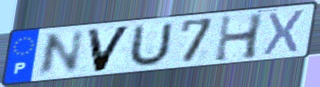7: (179, 17, 216, 66)
H: (212, 12, 266, 64)
N: (34, 28, 87, 79)
U: (126, 20, 176, 70)
V: (85, 24, 135, 74)
X: (260, 8, 307, 57)
